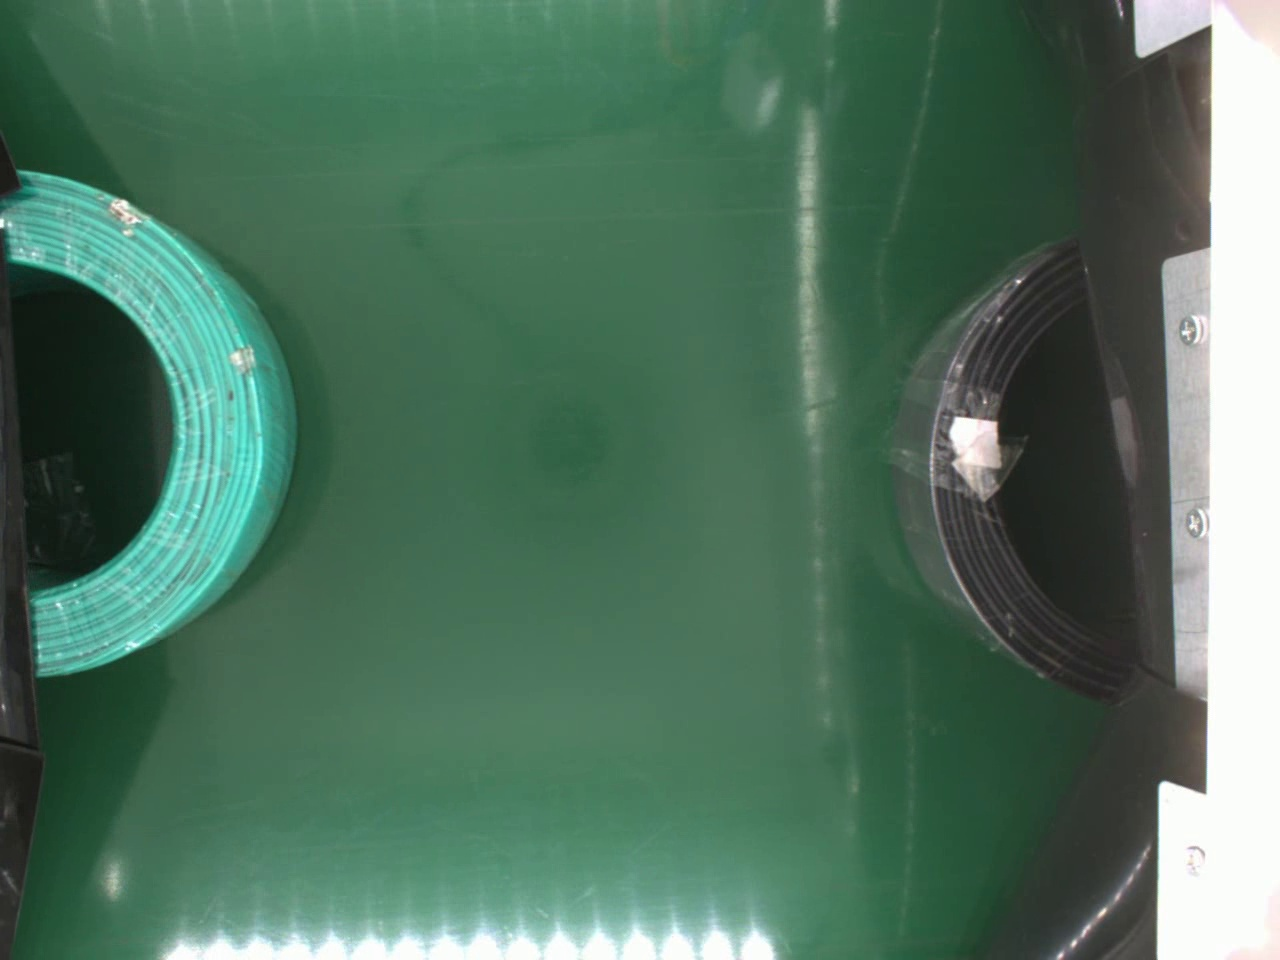black: (886, 236, 1130, 709)
green: (0, 159, 305, 689)
